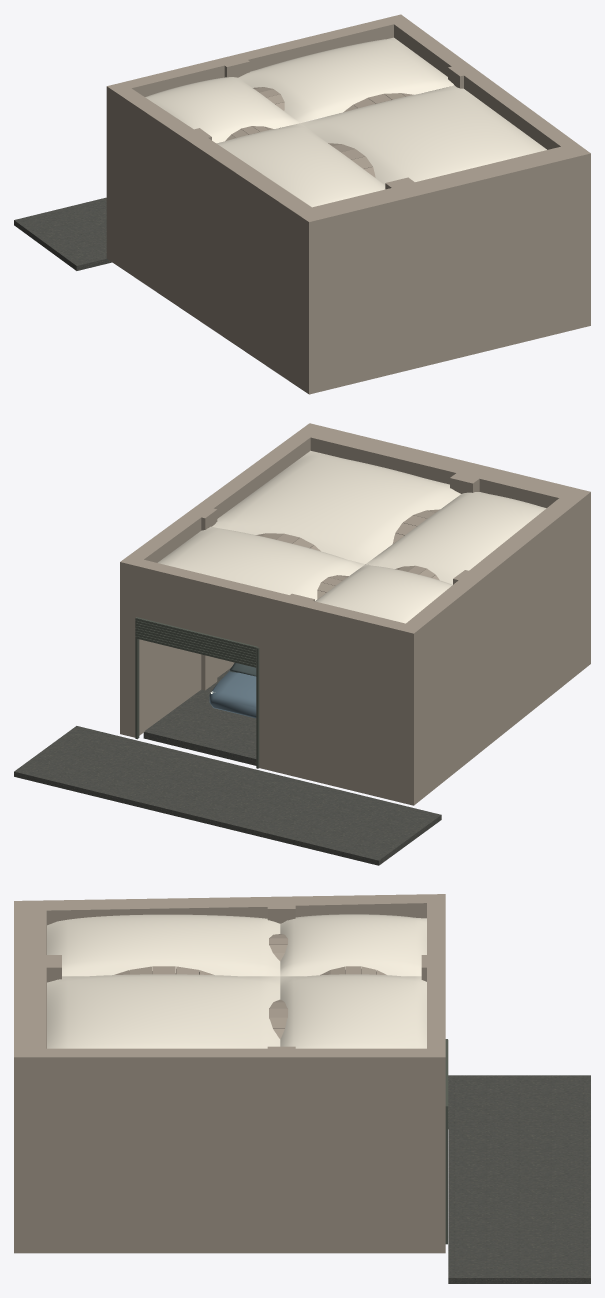
3 renders of one model, top to bottom at view 1: azimuth 30°, elevation 25°; view 2: azimuth 150°, elevation 25°; view 3: azimuth 270°, elevation 25°, orthographic. The views are drawn at different scales.
Visible parts, largest first — view 1: Muratura perimetrale, Muratura perimetrale.001, Volta ribassata indicativa.003, Volta ribassata indicativa.002, Volta ribassata indicativa.001, Volta ribassata indicativa, Selciato del vicolo; view 2: Muratura perimetrale, Muratura perimetrale.001, Selciato del vicolo, Volta ribassata indicativa.003, Volta ribassata indicativa.001, Volta ribassata indicativa.002, Battuto di cemento, Volta ribassata indicativa, Carrozzeria compatta; view 3: Muratura perimetrale, Muratura perimetrale.001, Selciato del vicolo, Volta ribassata indicativa.003, Volta ribassata indicativa.001, Volta ribassata indicativa.002, Volta ribassata indicativa.
Boxes of the visible parts, x1,y1,x2,y2 form: Muratura perimetrale: [106, 137, 590, 394]; Muratura perimetrale.001: [106, 14, 590, 273]; Volta ribassata indicativa.003: [301, 85, 546, 184]; Volta ribassata indicativa.002: [238, 37, 454, 122]; Volta ribassata indicativa.001: [217, 123, 385, 207]; Volta ribassata indicativa: [145, 77, 300, 143]; Selciato del vicolo: [14, 197, 111, 270]; Muratura perimetrale: [120, 543, 590, 805]; Muratura perimetrale.001: [120, 423, 590, 684]; Selciato del vicolo: [14, 726, 441, 865]; Volta ribassata indicativa.003: [212, 450, 460, 563]; Volta ribassata indicativa.001: [366, 492, 546, 584]; Volta ribassata indicativa.002: [157, 526, 364, 600]; Battuto di cemento: [143, 668, 256, 765]; Volta ribassata indicativa: [315, 564, 452, 623]; Carrozzeria compatta: [209, 671, 256, 718]; Muratura perimetrale: [14, 1026, 445, 1253]; Muratura perimetrale.001: [14, 894, 445, 1115]; Selciato del vicolo: [448, 1075, 590, 1283]; Volta ribassata indicativa.003: [47, 974, 280, 1048]; Volta ribassata indicativa.001: [47, 914, 280, 976]; Volta ribassata indicativa.002: [280, 974, 426, 1048]; Volta ribassata indicativa: [280, 914, 426, 976].
Bounding box in the file's own units: 9.65 × 4.56 × 11.61.
Materials: 12 (2 with a texture image).
